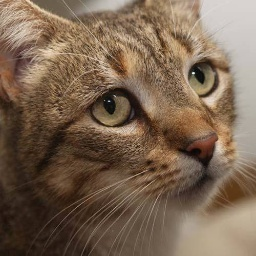cat: (3, 0, 235, 253)
